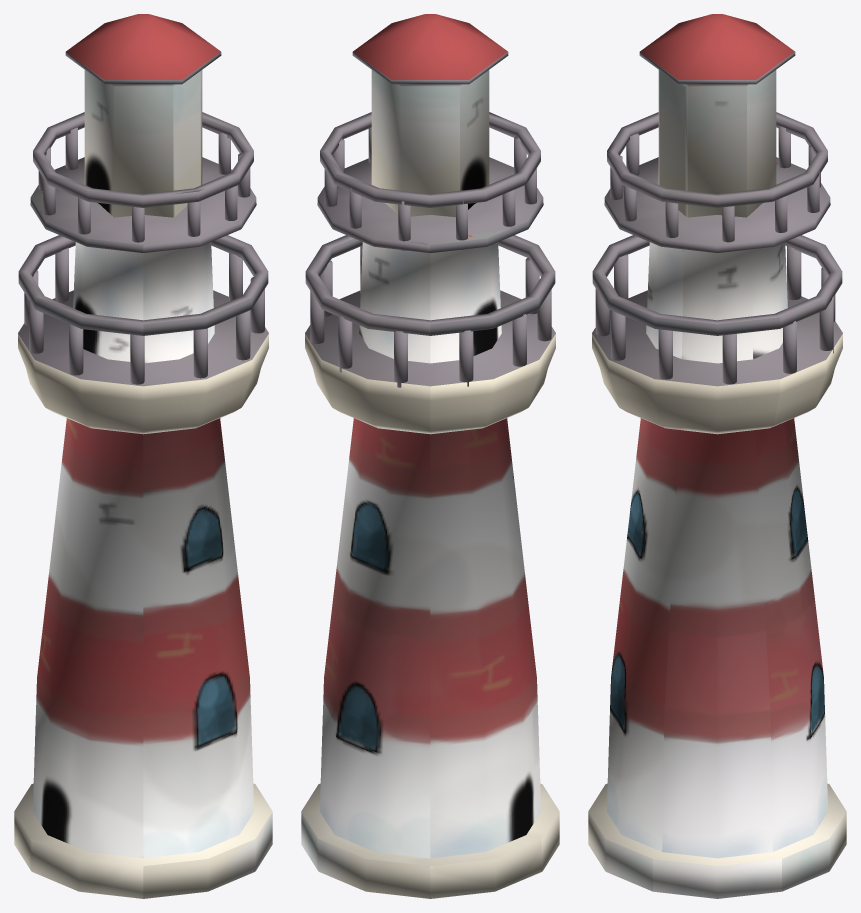
File: lighthouseFinal.fbx
The picture shows the model from 3 angles, left to right: view 1: azimuth 30°, elevation 25°; view 2: azimuth 150°, elevation 25°; view 3: azimuth 270°, elevation 25°; orthographic projection.
Visible parts, largest first — view 1: body; view 2: body; view 3: body.
Part boxes in pixels (x1,y1,x2,y2): body: (14,14,272,898); body: (301,14,559,898); body: (588,14,846,898).
Size of the model in its own units: 586 by 2067 by 586.
